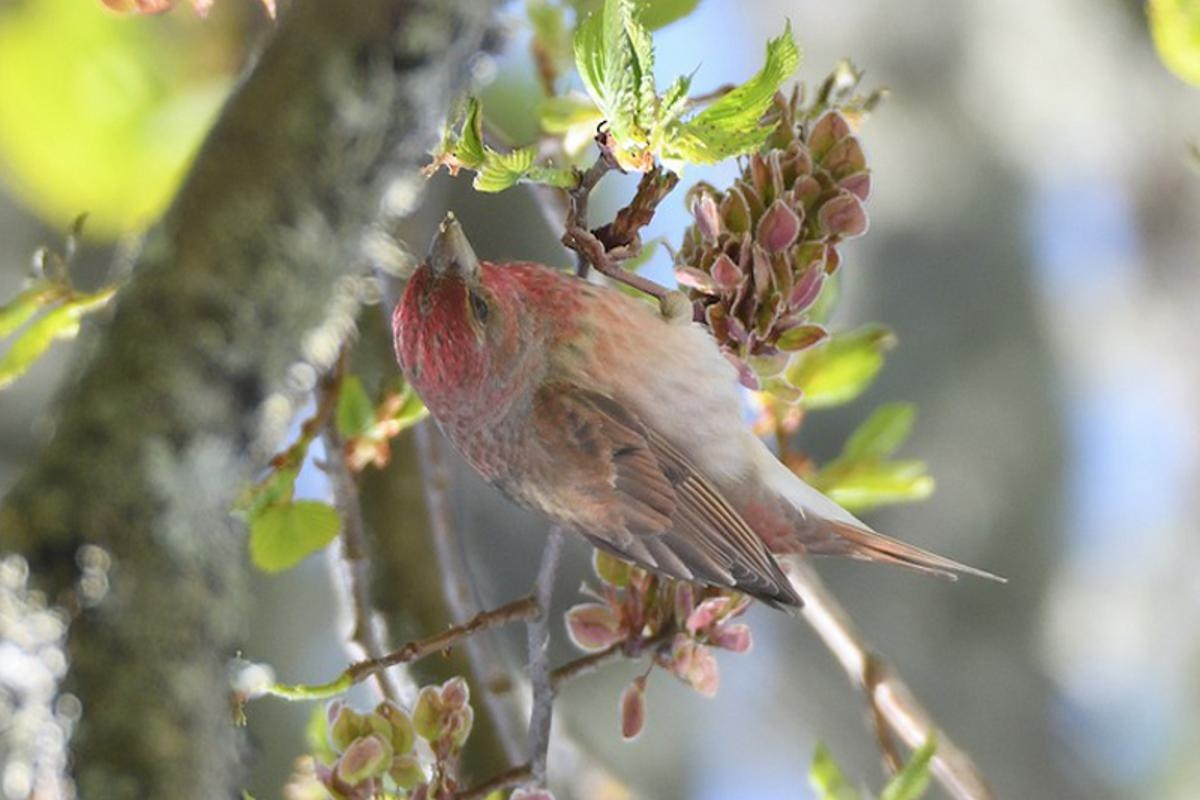rosefinch: (403, 215, 831, 601)
